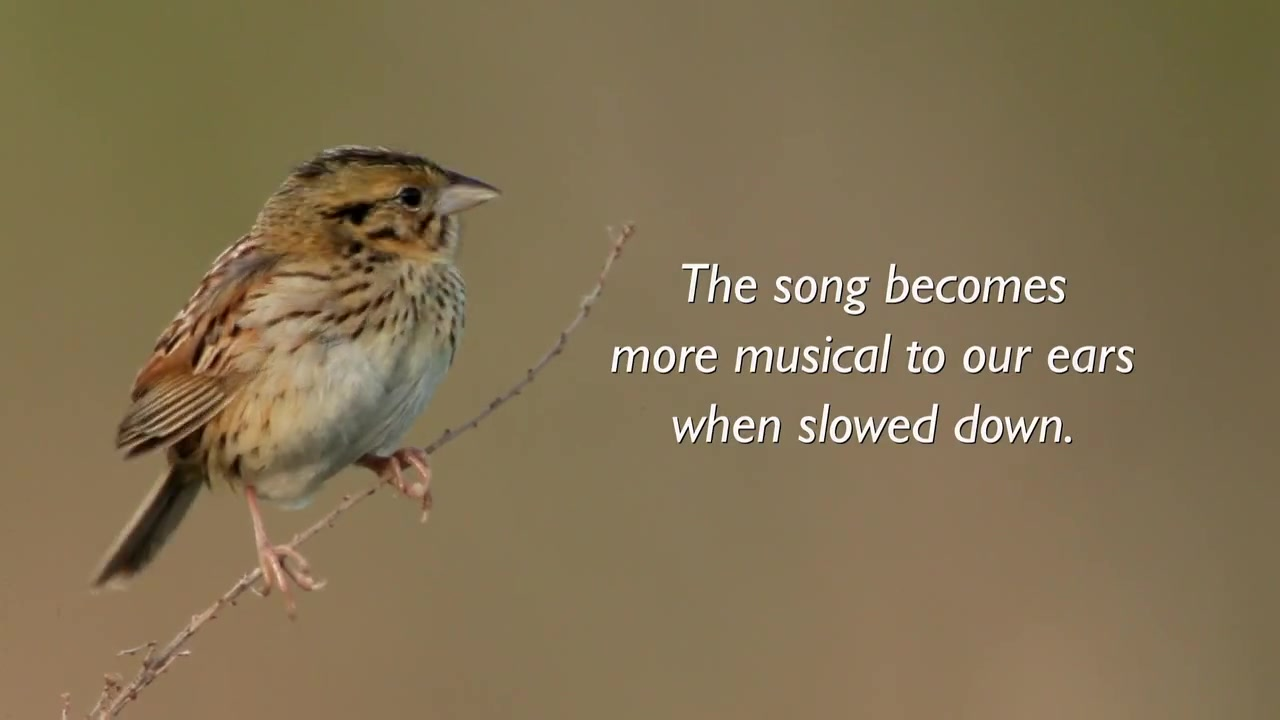bird: (90, 146, 510, 619)
